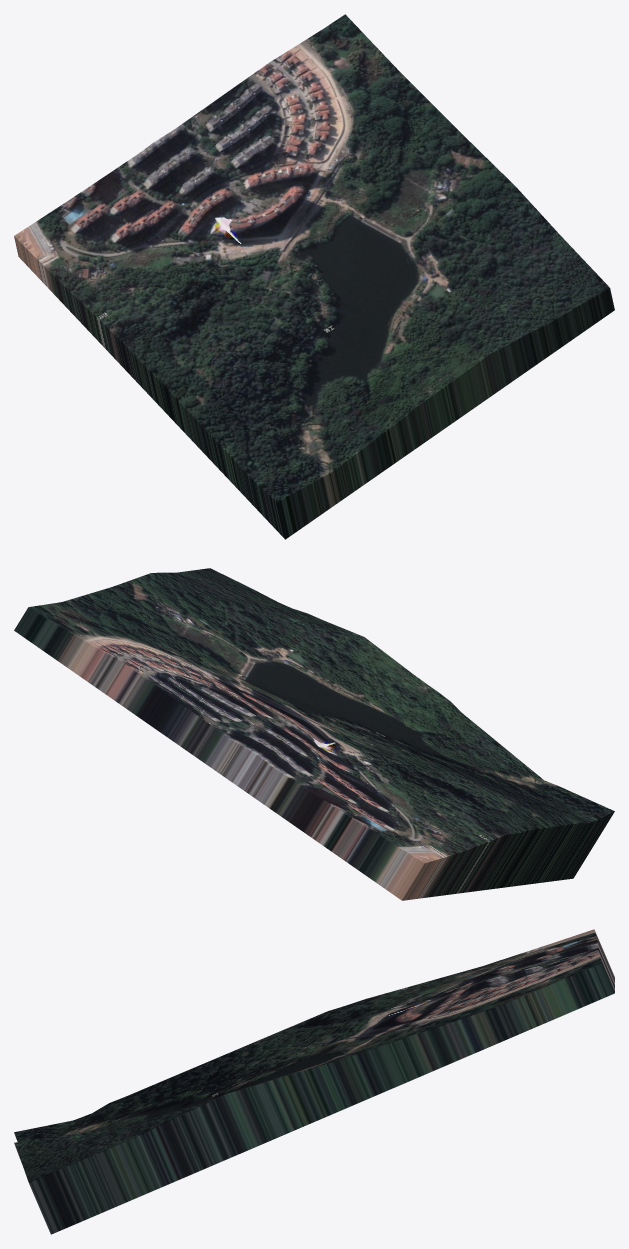
3 views of the same model, one above another, from view 1: azimuth 30°, elevation 25°; view 2: azimuth 150°, elevation 25°; view 3: azimuth 270°, elevation 25° (orthographic). The views are drawn at different scales.
Visible parts, largest first — view 1: 0_0_32; view 2: 0_0_32; view 3: 0_0_32.
Boxes of the visible parts, x1,y1,x2,y2 form: 0_0_32: (14,14,614,539); 0_0_32: (14,568,614,900); 0_0_32: (14,929,614,1234).
Bounding box in the file's own units: 611 × 456 × 577.
Materials: 1 (1 with a texture image).
